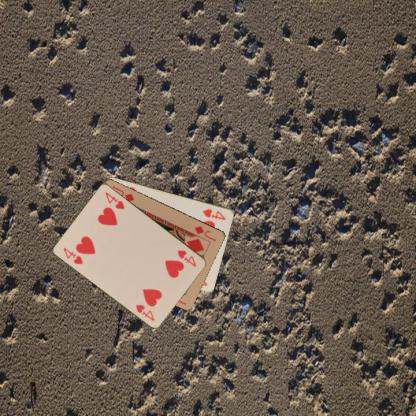4h: (61, 244, 84, 266), (175, 247, 198, 268), (201, 206, 227, 221)
Jd: (192, 223, 218, 243)
